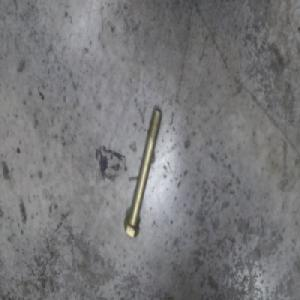Bolt: (124, 98, 162, 238)
